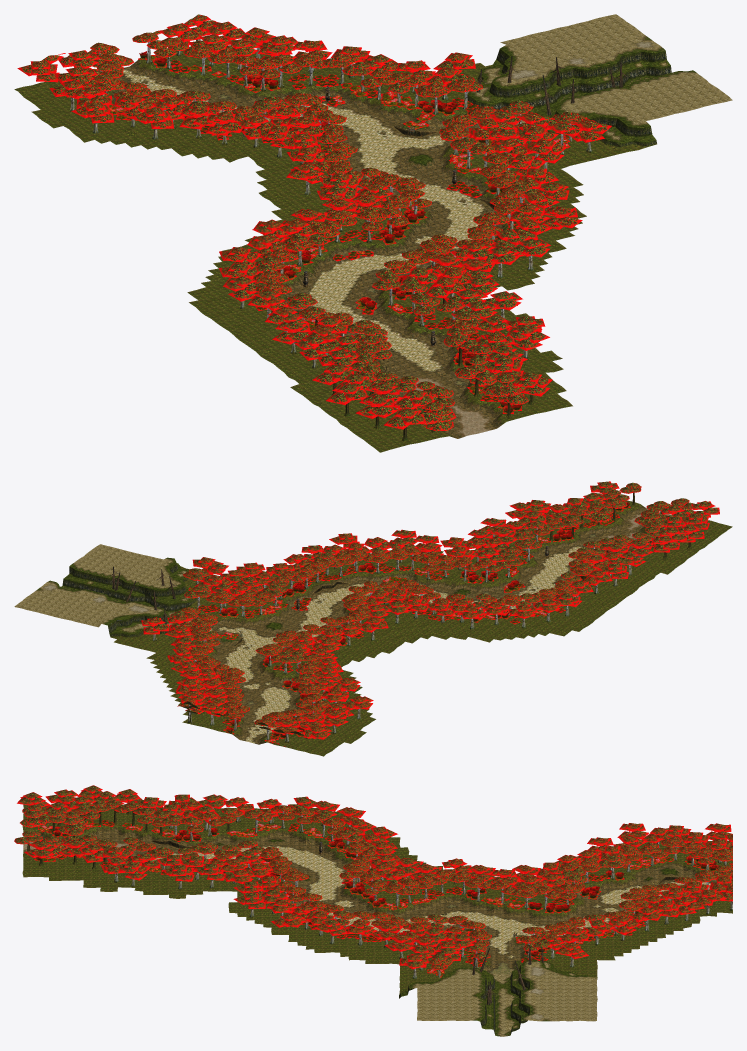
The model's file is EastBoseHighway4.obj.
3 renders of one model, top to bottom at view 1: azimuth 30°, elevation 25°; view 2: azimuth 150°, elevation 25°; view 3: azimuth 270°, elevation 25°, orthographic. The views are drawn at different scales.
Visible parts, largest first — view 1: Object.005; view 2: Object.005; view 3: Object.005.
Part boxes in pixels (x1=…): Object.005: x1=14, y1=14, x2=732, y2=452; Object.005: x1=14, y1=481, x2=732, y2=756; Object.005: x1=14, y1=785, x2=732, y2=1036.
Bounding box in the file's own units: 128 × 9.44 × 168.
Materials: 22 (22 with a texture image).
